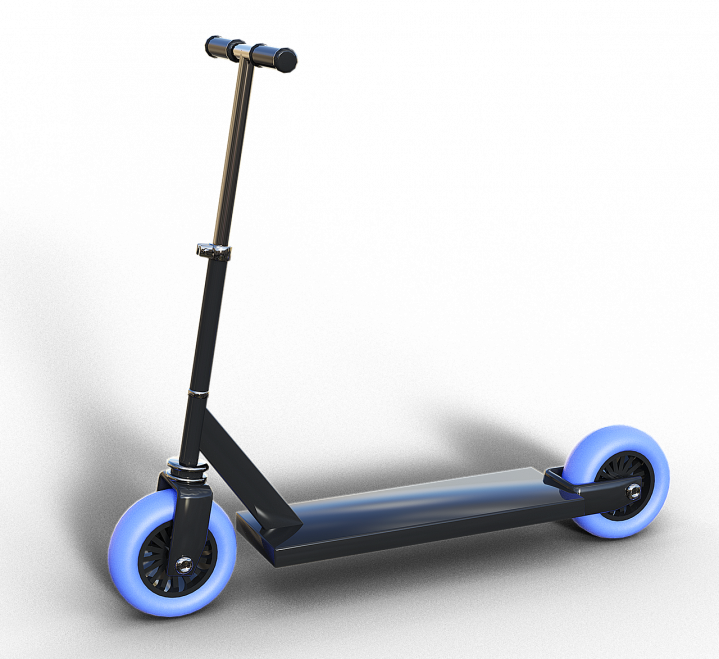scooter: (105, 24, 673, 622)
